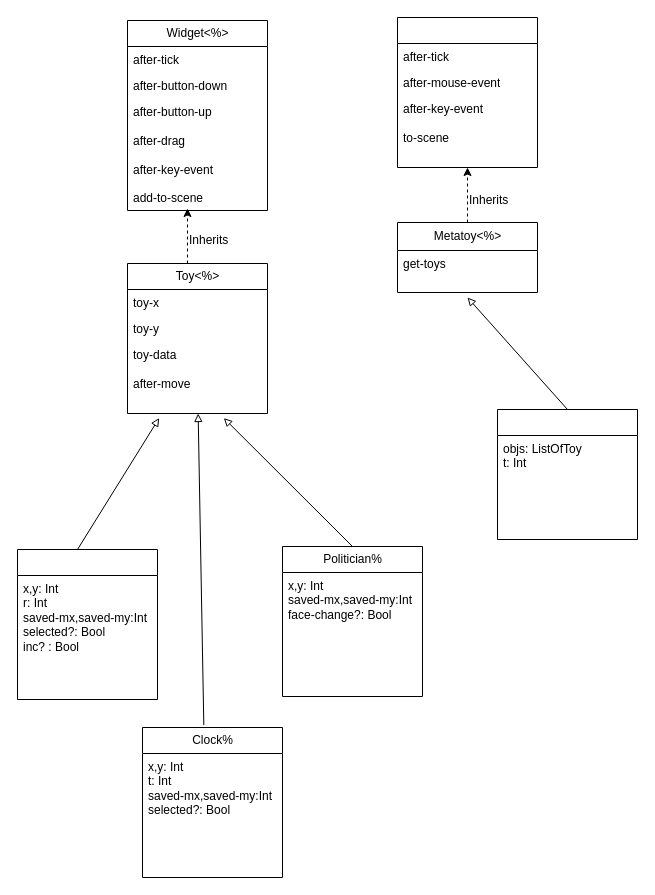
Some shapes in this 655 by 895 pixel diagram are drawn without their labels. The shapes that lost their labels are listed below. From the top down, each one's box as (x1, y1, x2, y2) in pixels, then its label:
(396, 16, 538, 168): World<%>
(496, 408, 638, 540): Metatoy%
(16, 548, 158, 700): Throober%
